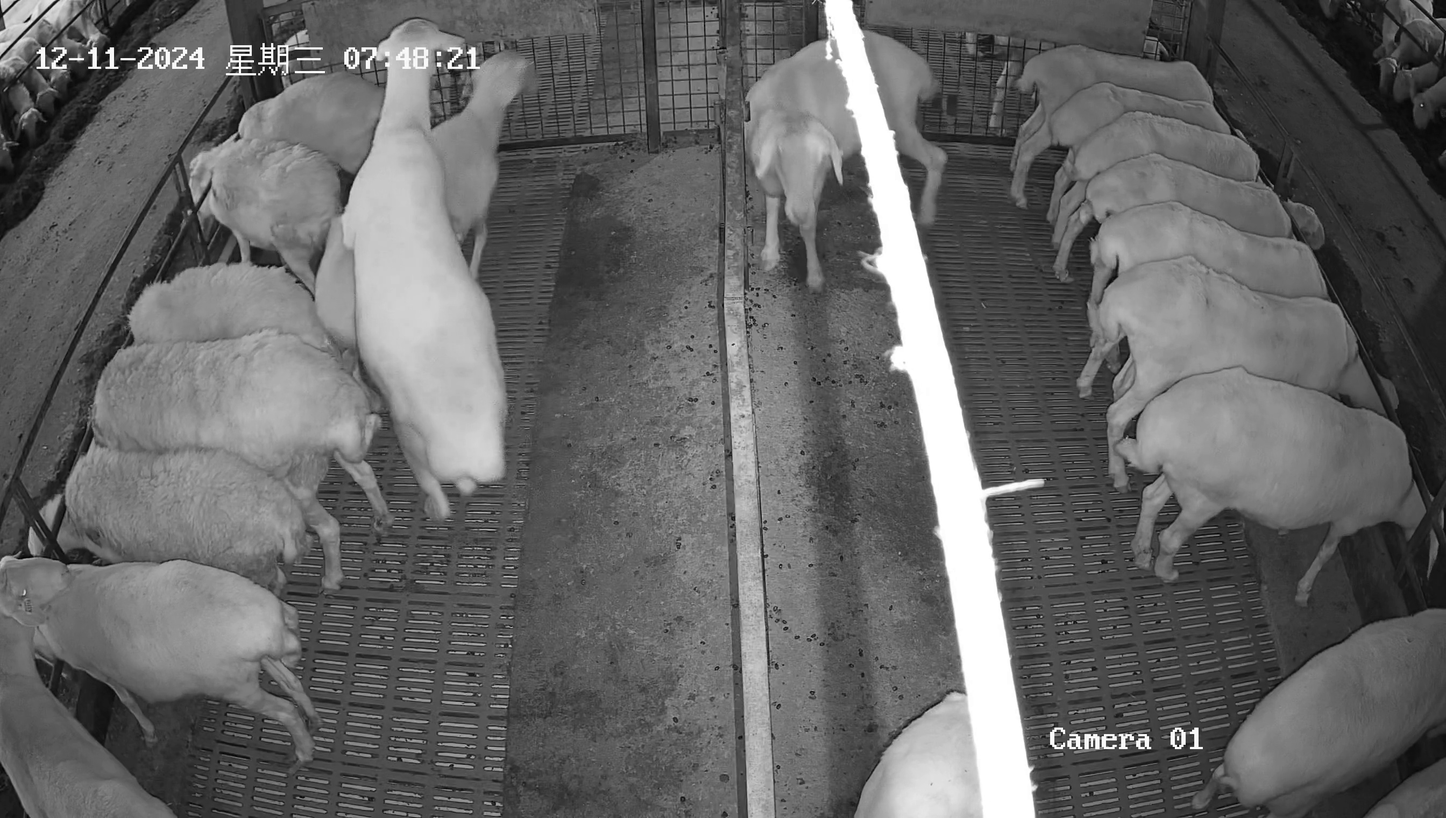Smounting: (308, 16, 530, 518)
mounted: (313, 50, 526, 349)
